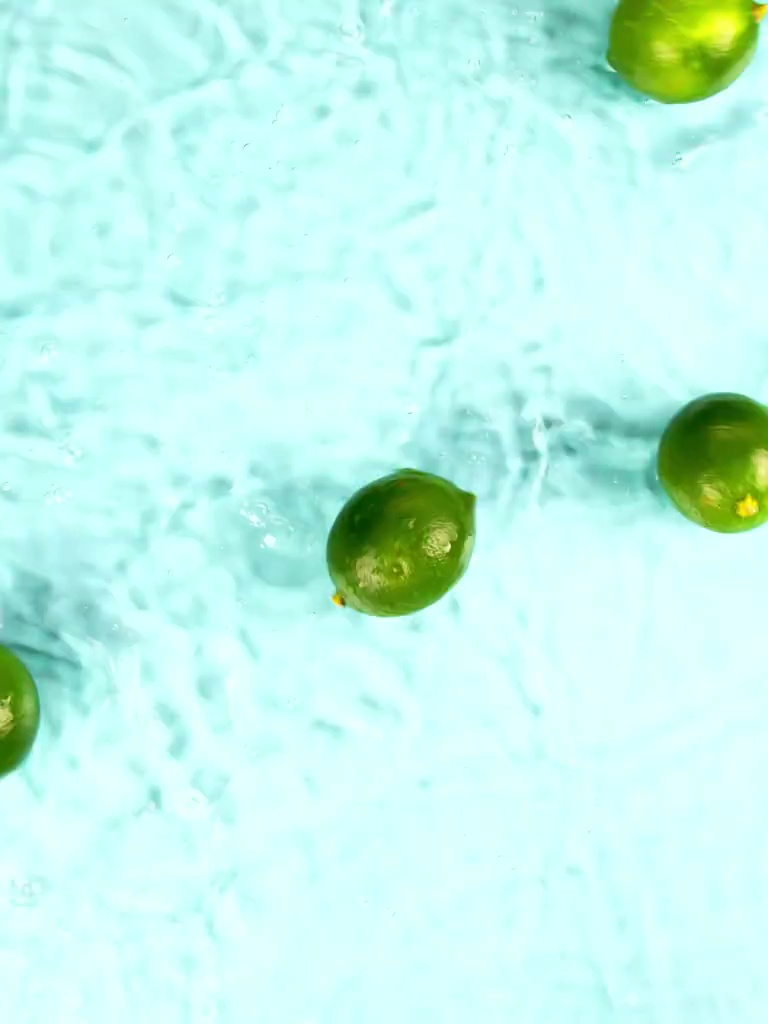Orange: (330, 472, 476, 624)
